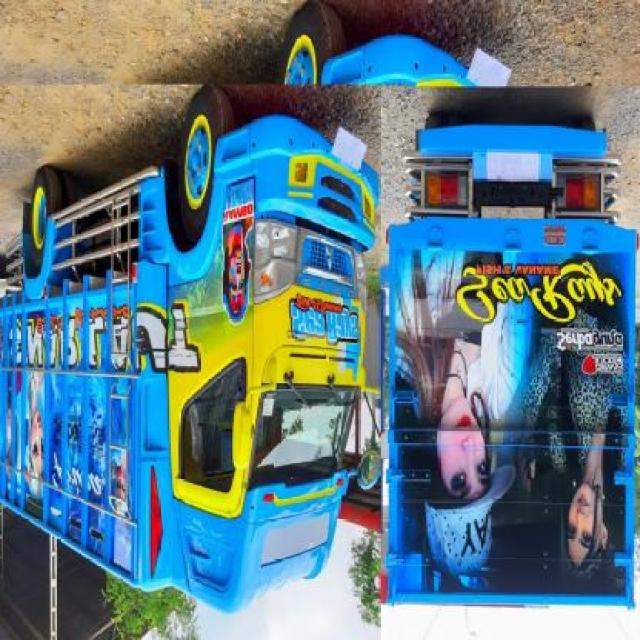truck: (1, 92, 378, 613), (388, 114, 640, 611)
